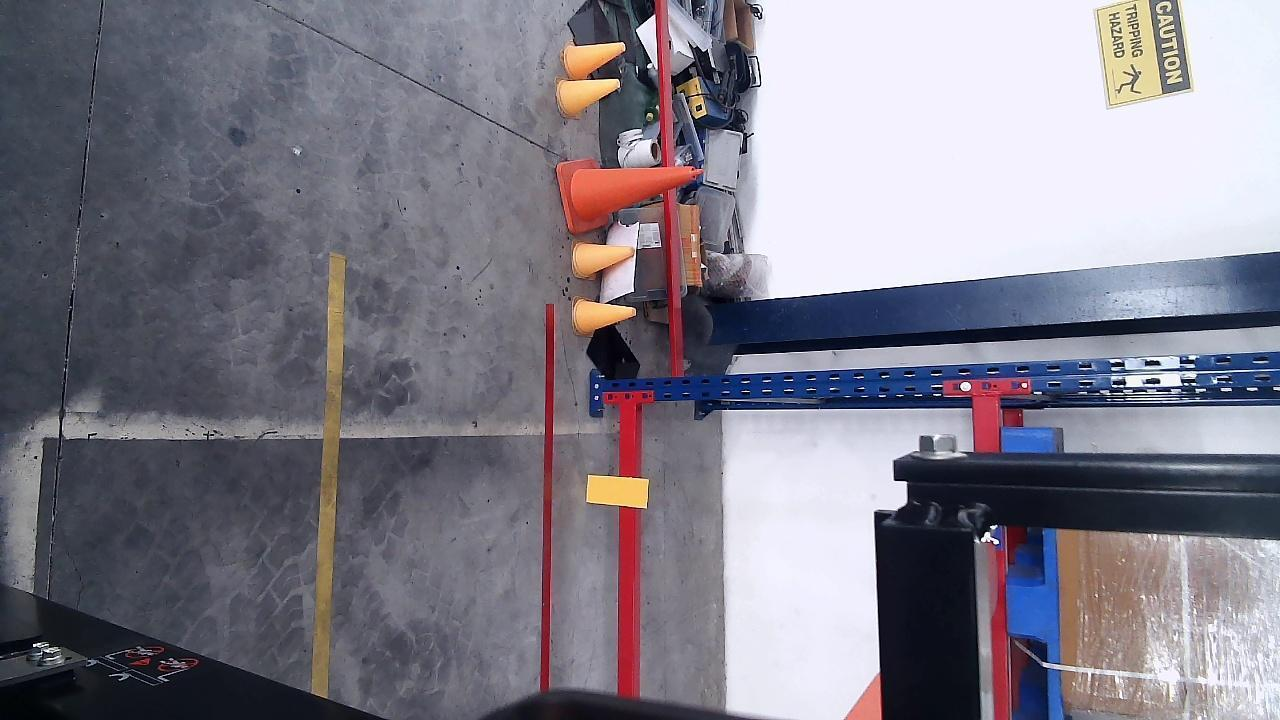red_line: (542, 303, 556, 685)
yellow_line: (314, 251, 345, 698)
